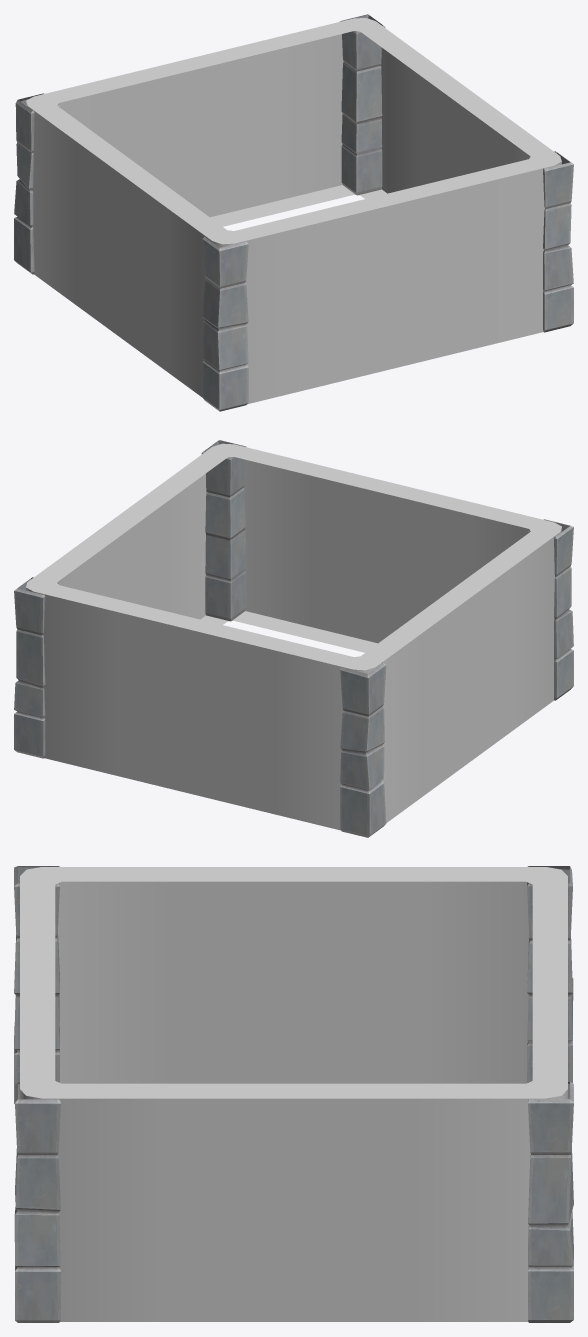
File: SM_TowerE_Mid_01.fbx
The picture shows the model from 3 angles, top to bottom: view 1: azimuth 30°, elevation 25°; view 2: azimuth 150°, elevation 25°; view 3: azimuth 270°, elevation 25°; orthographic projection. The views are drawn at different scales.
Parts seen in each view (by area): view 1: SM_TowerE_Mid_01_LOD0; view 2: SM_TowerE_Mid_01_LOD0; view 3: SM_TowerE_Mid_01_LOD0.
Boxes of the visible parts, <box> form: SM_TowerE_Mid_01_LOD0: <box>14,14,573,411</box>; SM_TowerE_Mid_01_LOD0: <box>14,440,573,837</box>; SM_TowerE_Mid_01_LOD0: <box>14,866,573,1322</box>.
Size of what is drawn, in the model's own units: 10.22 by 4.5 by 10.22.
